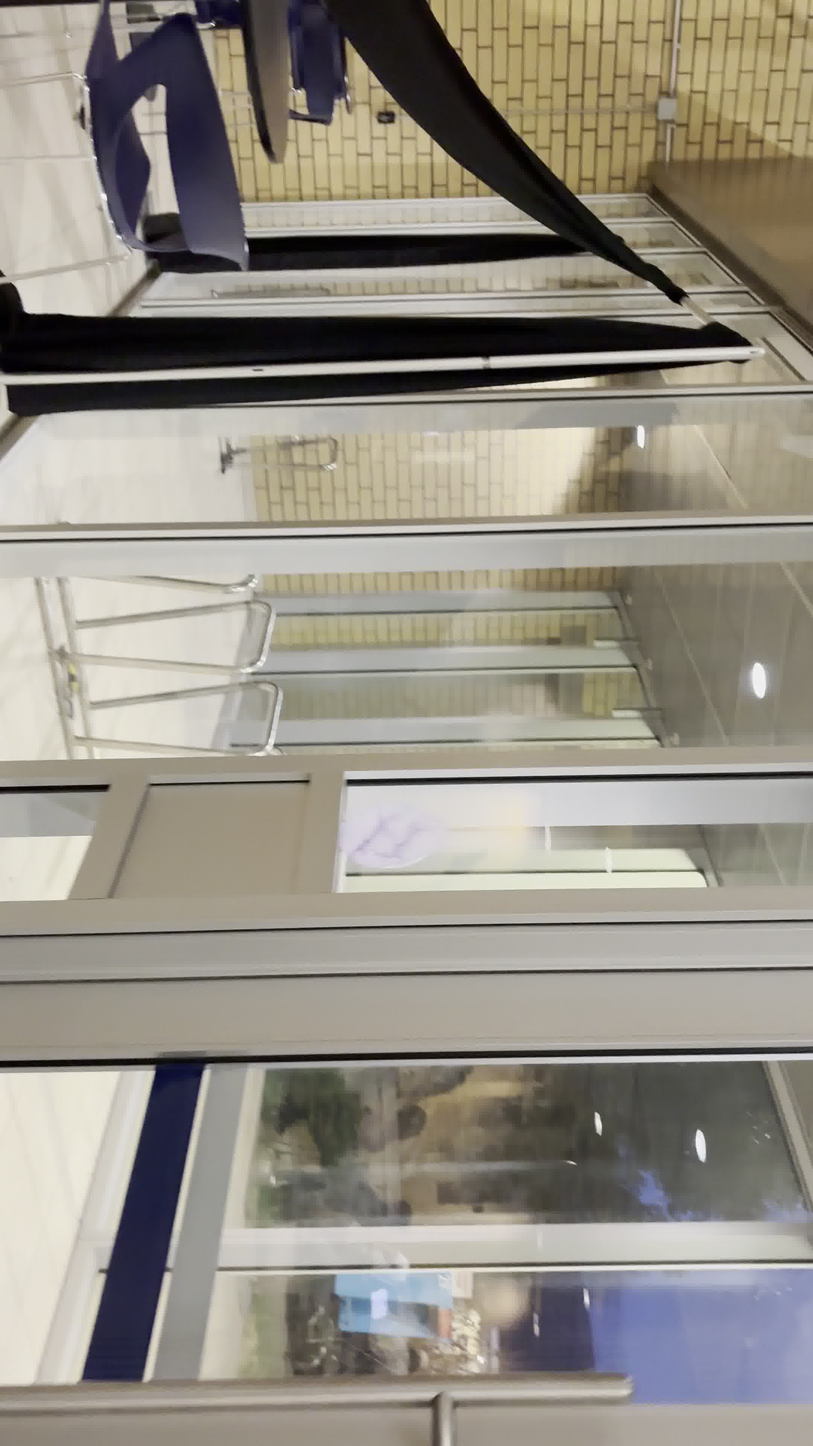Target: (338, 796, 446, 872)
